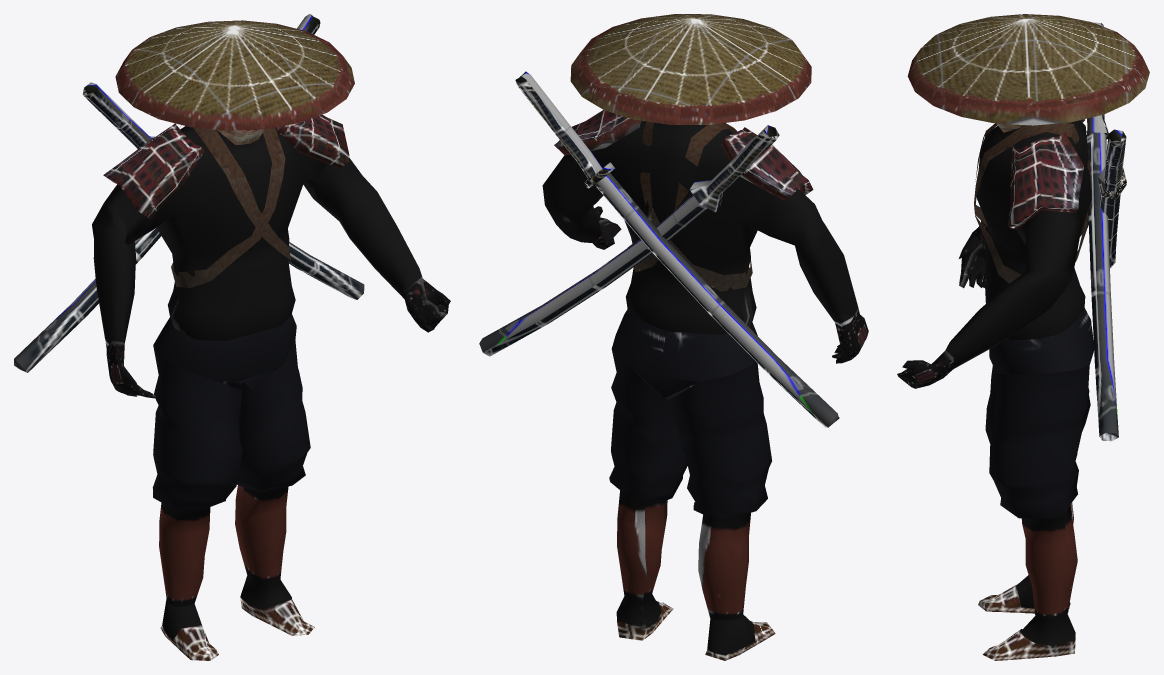
File: warrior1.obj
The picture shows the model from 3 angles, left to right: view 1: azimuth 30°, elevation 25°; view 2: azimuth 150°, elevation 25°; view 3: azimuth 270°, elevation 25°; orthographic projection.
Parts seen in each view (by area): view 1: warrior:group warrior:pasted__polySurface72 warrior:polySurface2; view 2: warrior:group warrior:pasted__polySurface72 warrior:polySurface2; view 3: warrior:group warrior:pasted__polySurface72 warrior:polySurface2.
Boxes of the visible parts, x1,y1,x2,y2 form: warrior:group warrior:pasted__polySurface72 warrior:polySurface2: (14,14,450,660); warrior:group warrior:pasted__polySurface72 warrior:polySurface2: (479,14,868,660); warrior:group warrior:pasted__polySurface72 warrior:polySurface2: (897,14,1149,660).
Size of the model in its own units: 0.8026 by 1.33 by 0.4993.
Materials: 1 (1 with a texture image).
